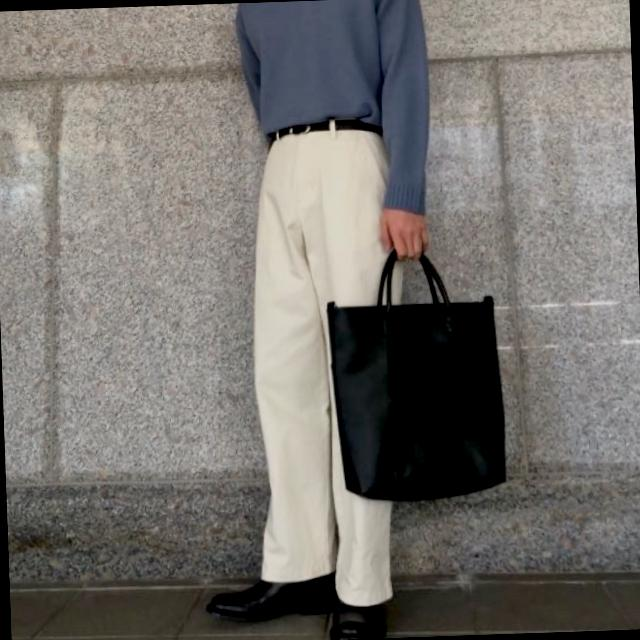cottonpants: (243, 119, 413, 598)
sweater: (237, 0, 435, 220)
